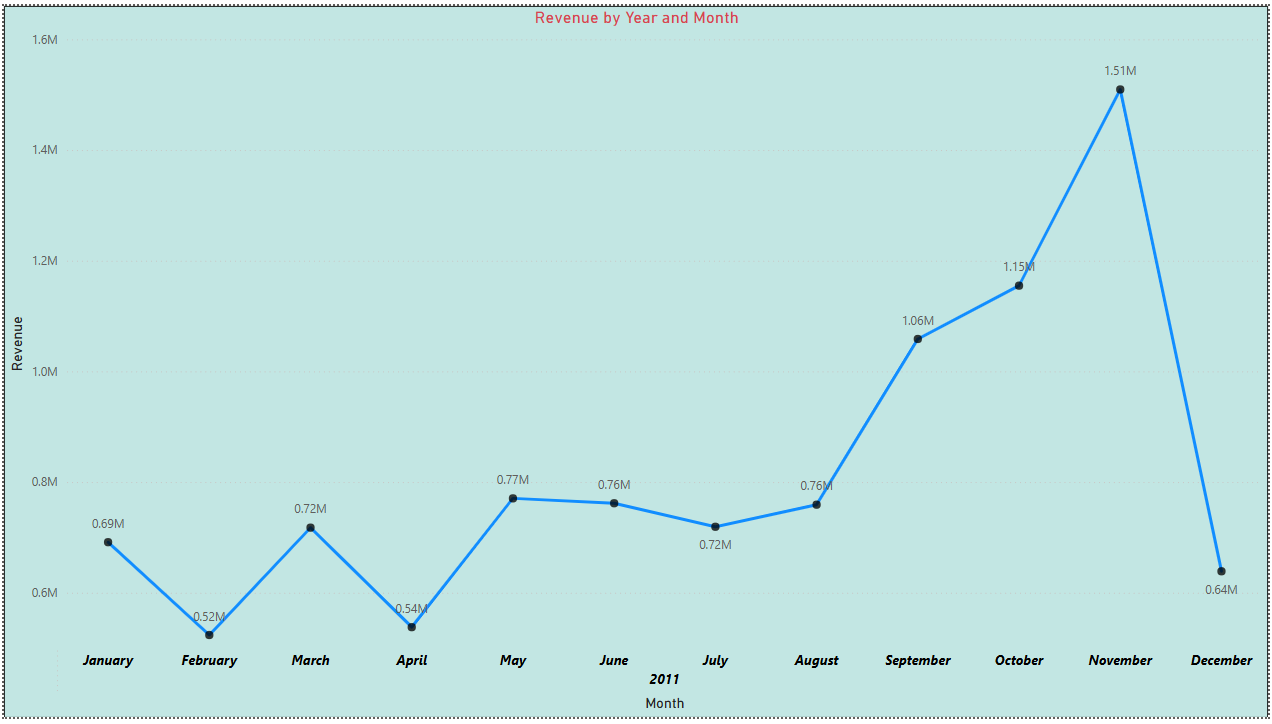

Layout of this report page (visuals, bound fields, positions):
{"tool":"powerbi","page":{"name":"1Revenue Trends","canvas":[1280,720],"ordinal":0},"visuals":[{"type":"lineChart","fields":{"Category":["Online Retail.InvoiceDate.Variation.Date Hierarchy.Year","Online Retail.InvoiceDate.Variation.Date Hierarchy.Month"],"Y":["Online Retail.Measure"]},"box":[0,0,1280.3,720.4],"z":0}]}

Visuals, with their boxes in screenshot pixels (x1, y1, x2, y2), scaled from the page's 1280x720 canvas onto the 1272x724 screenshot:
lineChart - Online Retail.InvoiceDate.Variation.Date Hierarchy.Year x Online Retail.InvoiceDate.Variation.Date Hierarchy.Month: [0,0,1271,723]
